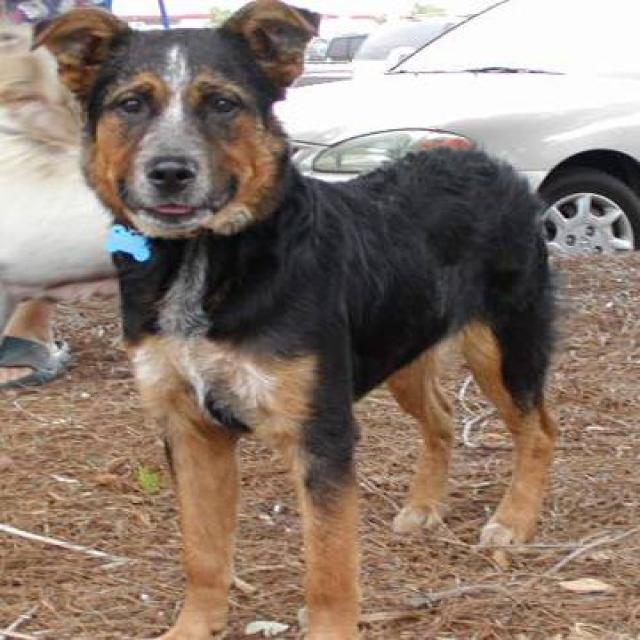Dog: (16, 0, 338, 246)
